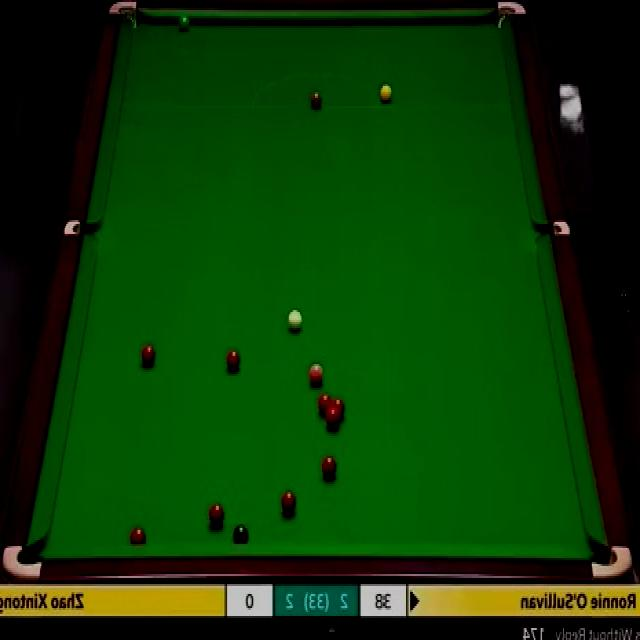black-ball: (233, 523, 250, 543)
brown-ball: (309, 88, 323, 111)
green-ball: (177, 14, 190, 30)
pink-ball: (308, 362, 324, 385)
red-ball: (281, 489, 297, 517), (208, 502, 225, 528), (321, 455, 336, 480), (226, 349, 241, 371), (129, 526, 145, 546), (141, 344, 155, 366), (326, 408, 339, 430), (318, 393, 331, 415), (332, 399, 344, 412)
white-ball: (287, 308, 304, 332)
yellow-ball: (380, 83, 393, 103)
